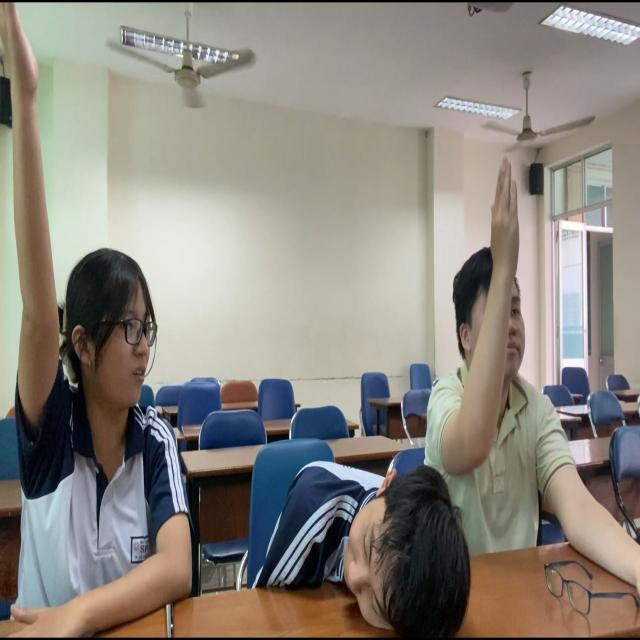raise_hand: (1, 1, 181, 629), (439, 152, 565, 512)
sleep: (225, 442, 463, 640)
